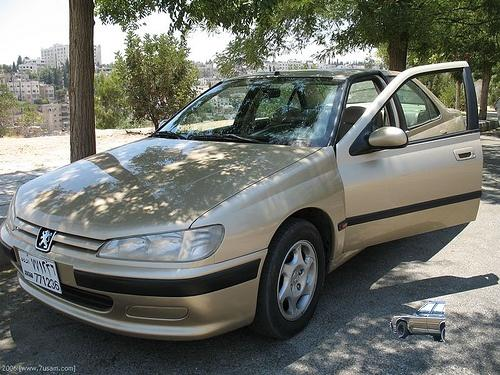tampered: (390, 302, 445, 342)
